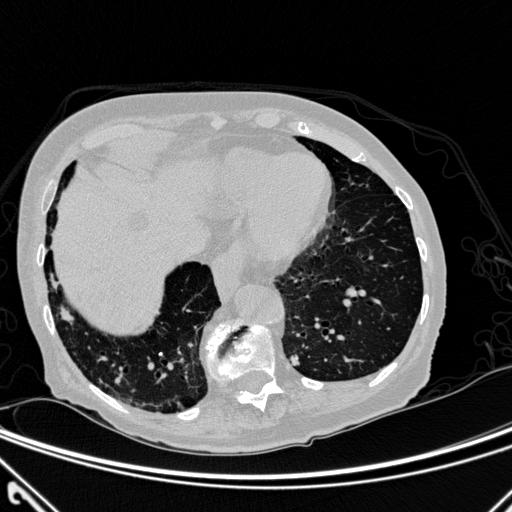nodule: (287, 353, 302, 368)
